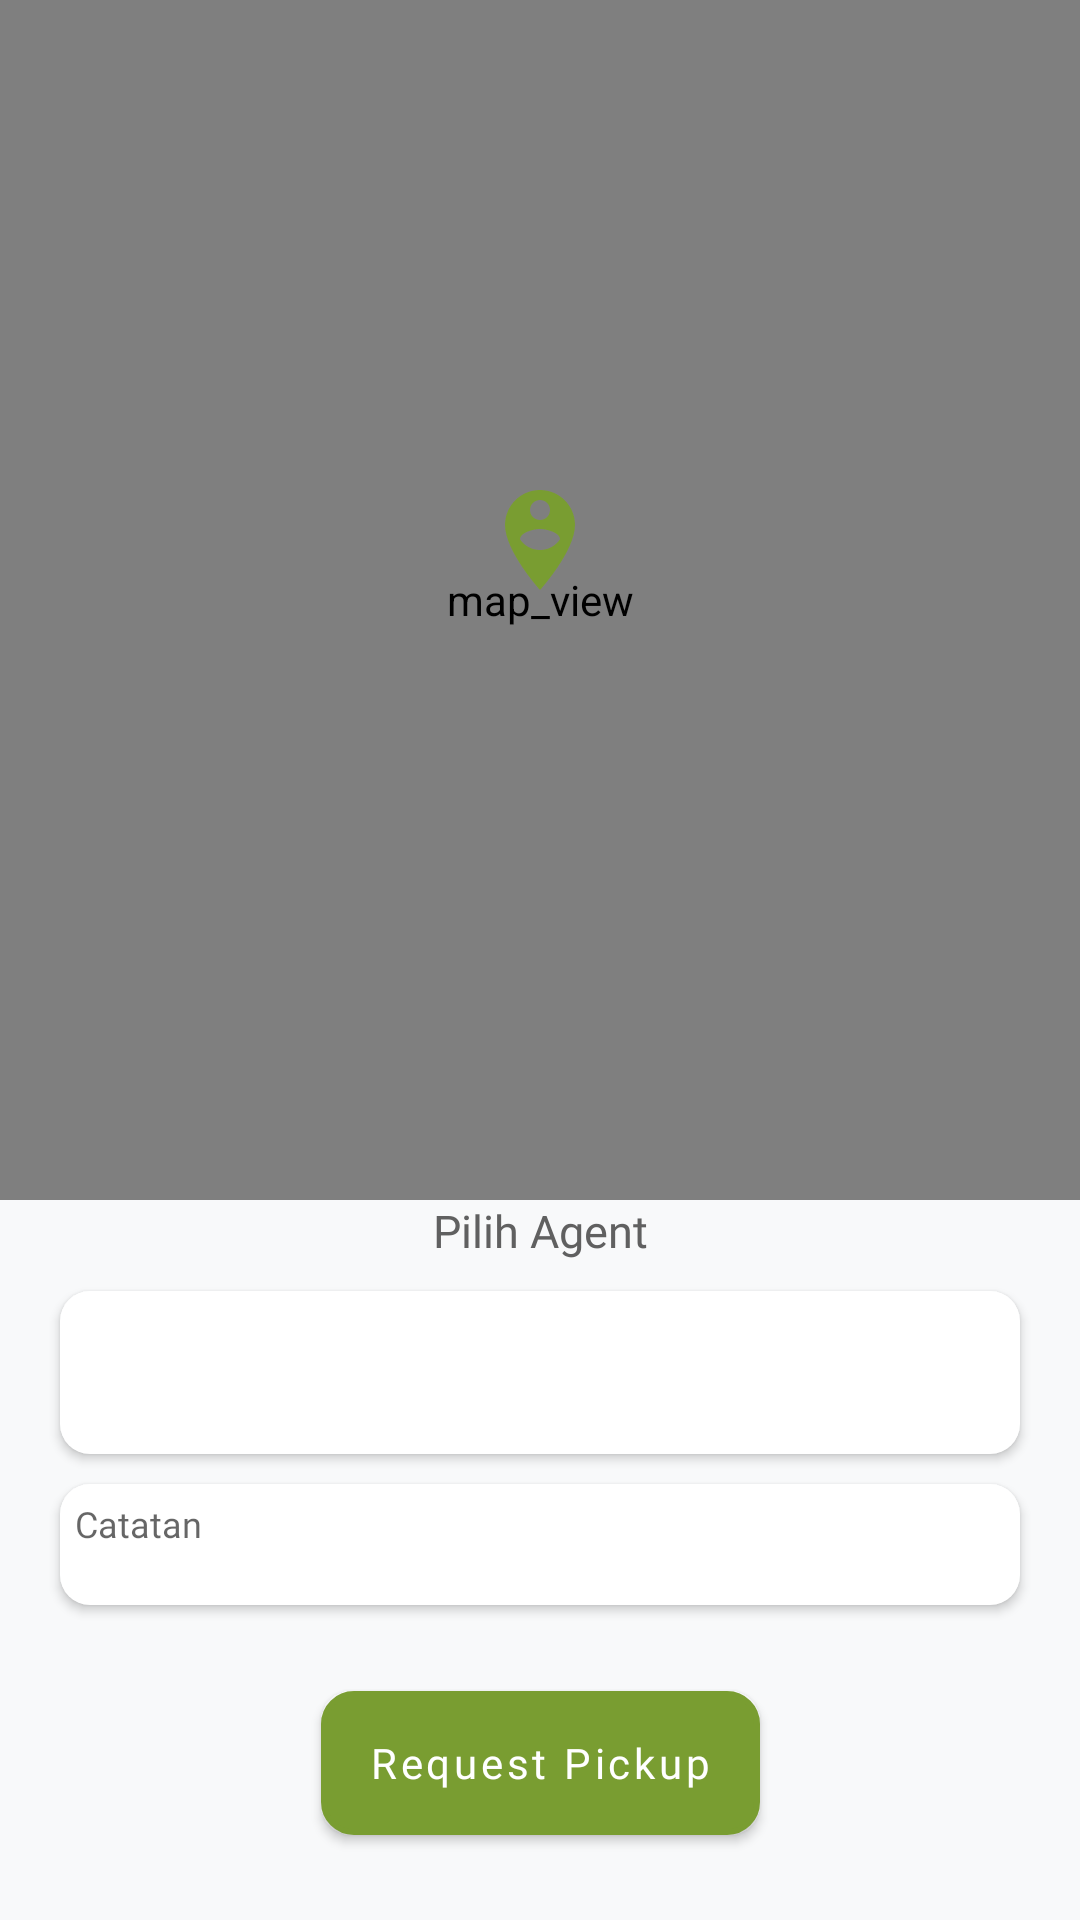

Screen size 1080×1920. Icon name, then its center in pixels as (x=x, y=y):
pin person: (x=541, y=540)
